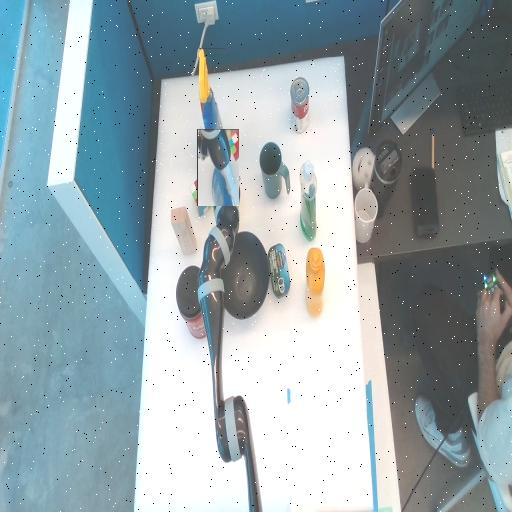bowl: (218, 232, 268, 318)
cleanser: (299, 193, 316, 209)
coffee_can: (175, 284, 214, 322)
jaco: (198, 129, 239, 206)
meat_can: (267, 261, 289, 283)
mug: (259, 143, 289, 199)
mustard_bottle: (306, 249, 324, 317)
rubik: (190, 174, 212, 217)
soup_can: (290, 97, 308, 115)
tennis_ball: (221, 188, 238, 218)
windex: (198, 49, 225, 167)
wooden_block: (170, 219, 195, 244)
workspace: (135, 57, 372, 509)
